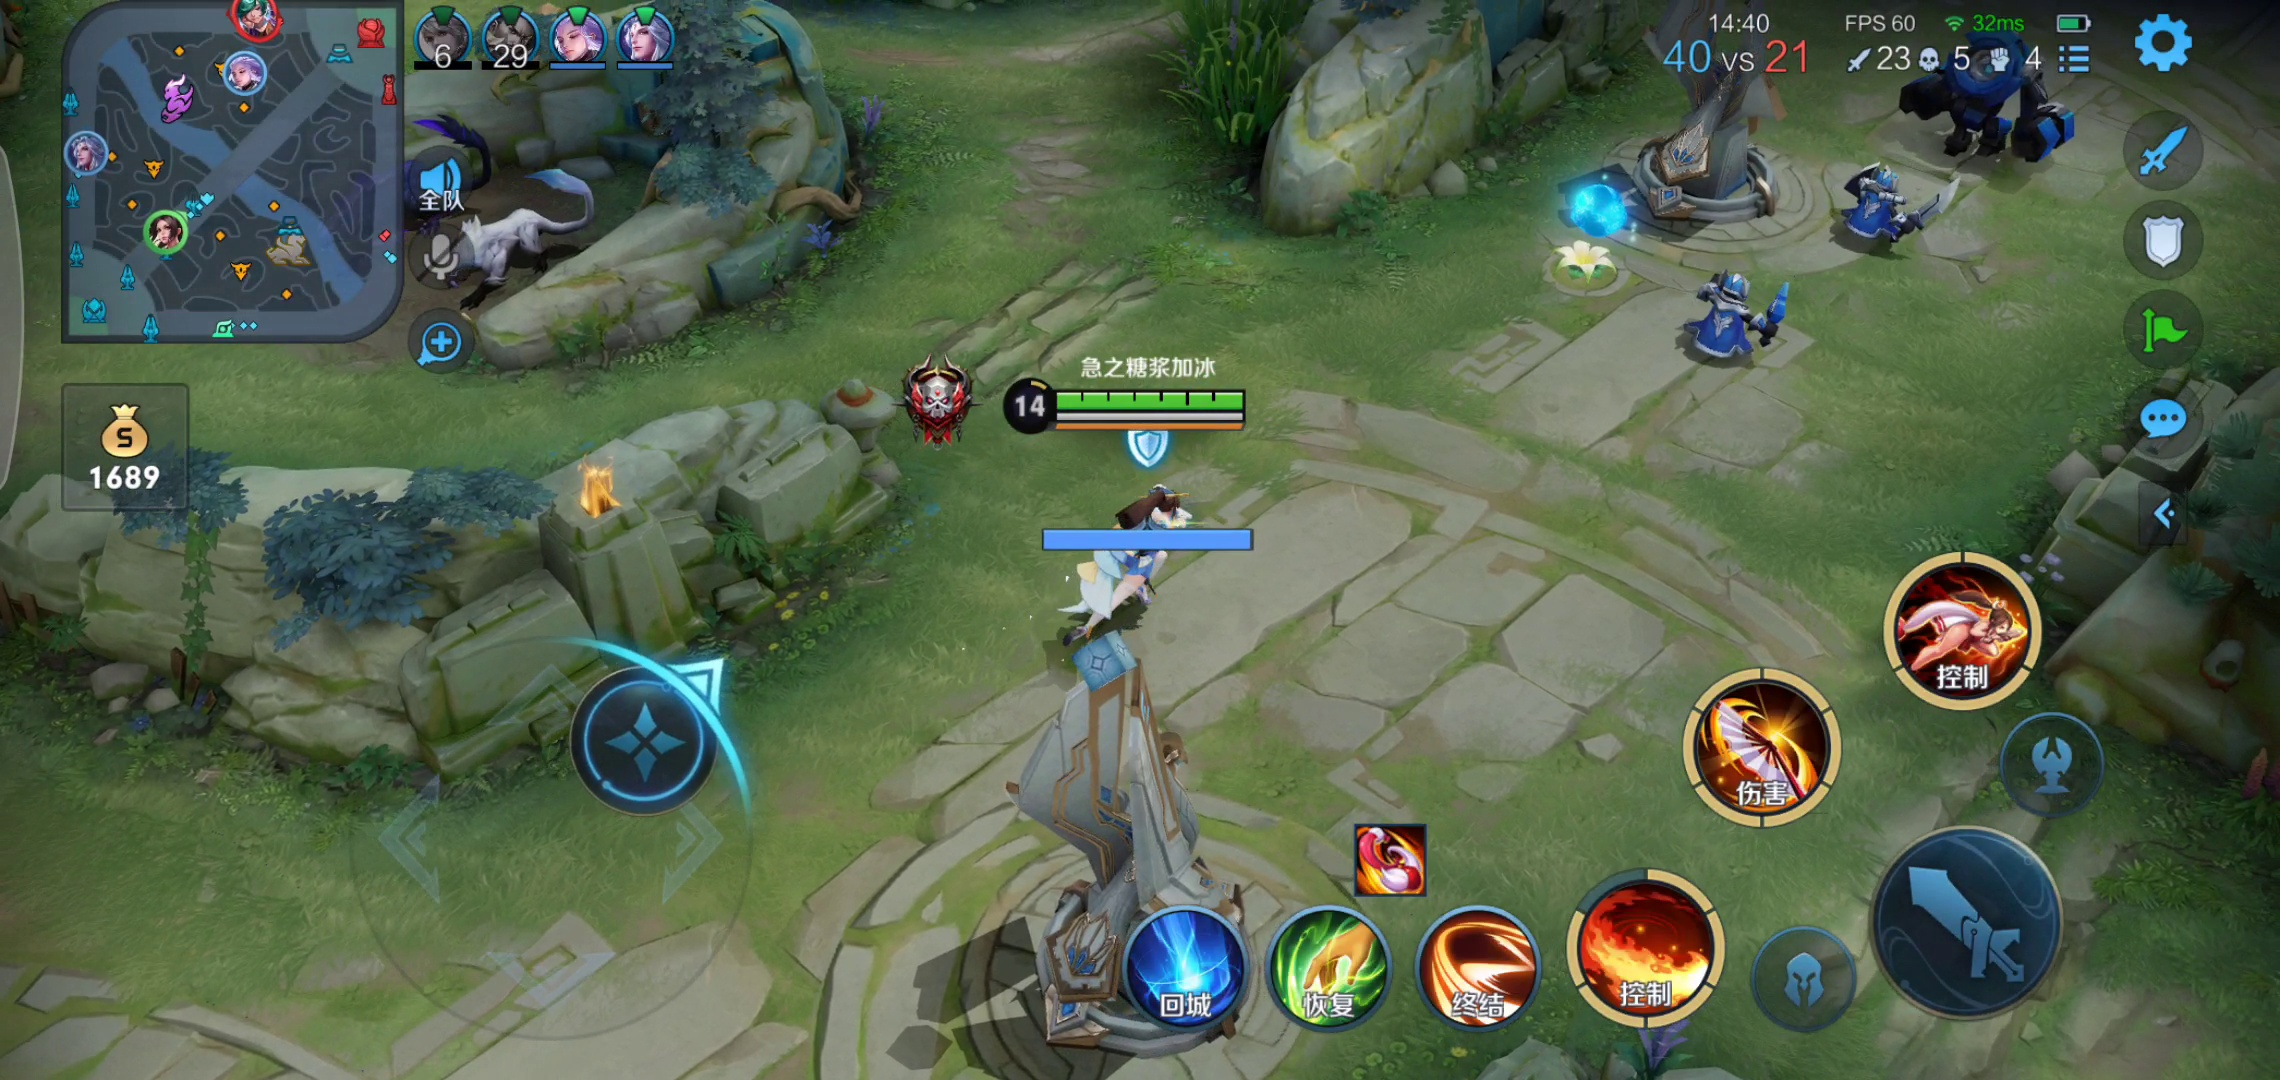grass: (1157, 1, 1297, 151)
hero: (1050, 472, 1213, 635)
soldier: (1906, 36, 2079, 179), (1666, 254, 1806, 392), (1834, 157, 1959, 254)
tower: (1011, 640, 1272, 1055), (1621, 1, 1800, 228)
wild_monster: (366, 140, 643, 318)
